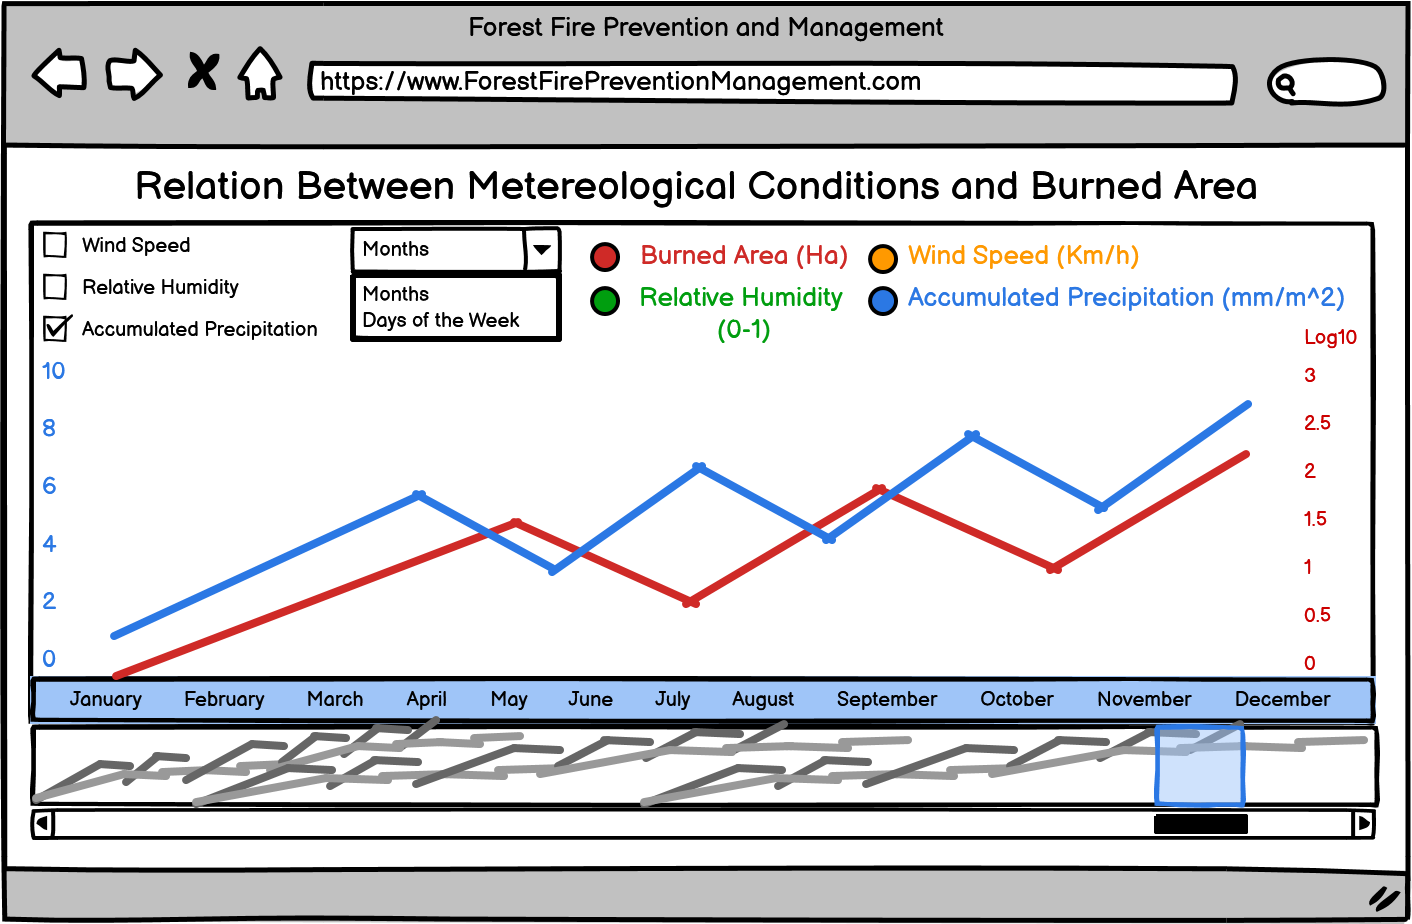

The page's visual inventory and layout, read from the dashboard file:
{"tool":"tableau","page":{"name":"Relation Between Meteorological Conditions and Burned Area","canvas":[1000,1000],"units":"permille","ordinal":1},"visuals":[{"type":"worksheet","box":[0,0,1000,1000]},{"type":"worksheet","param":"horz","box":[8.4,10.5,983.2,978.9]},{"type":"worksheet","box":[8.4,10.5,662.1,978.9]},{"type":"worksheet","title":"Relation Between the Meteorological Conditions and the Burned Area","mark":"Line","rows":["burned_area"],"cols":["Select Options - Wind Speed (copy)_489485014977863690"],"box":[8.4,10.5,662.1,978.9]},{"type":"worksheet","param":"vert","box":[670.5,10.5,321.1,978.9]},{"type":"worksheet","title":"Relation Between the Meteorological Conditions and the Burned Area","mark":"Line","rows":["burned_area"],"cols":["Select Options - Wind Speed (copy)_489485014977863690"],"param":"[federated.018flwa0r0w9l21bi048g1bm1vgd].[:Measure Names]","box":[670.5,10.5,321.1,150]},{"type":"worksheet","param":"[Parameters].[xd (copy)_489485014972088324]","box":[670.5,160.5,321.1,107.9]},{"type":"worksheet","param":"[Parameters].[time.csv1 Parameter]","box":[670.5,268.4,321.1,107.9]},{"type":"worksheet","param":"[Parameters].[xd2 (copy)_489485014972559366]","box":[670.5,376.3,321.1,107.9]},{"type":"worksheet","param":"[Parameters].[Accumulated Precipitation (copy)_489485014977282057]","box":[670.5,484.2,321.1,73.7]}]}

Visuals, with their boxes on the dashboard's canvas, which has no fixed pixel size, in thousandths of its width and height (x1, y1, x2, y2). These are canvas units, not pixel positions in the 1412x924 screenshot, which may show the page scaled, cropped or inside an application window:
worksheet: rect(0, 0, 1000, 1000)
worksheet: rect(8, 10, 992, 989)
worksheet: rect(8, 10, 670, 989)
"Relation Between the Meteorological Conditions and the Burned Area" worksheet (Line marks): rect(8, 10, 670, 989)
worksheet: rect(670, 10, 992, 989)
"Relation Between the Meteorological Conditions and the Burned Area" worksheet (Line marks): rect(670, 10, 992, 160)
worksheet: rect(670, 160, 992, 268)
worksheet: rect(670, 268, 992, 376)
worksheet: rect(670, 376, 992, 484)
worksheet: rect(670, 484, 992, 558)
